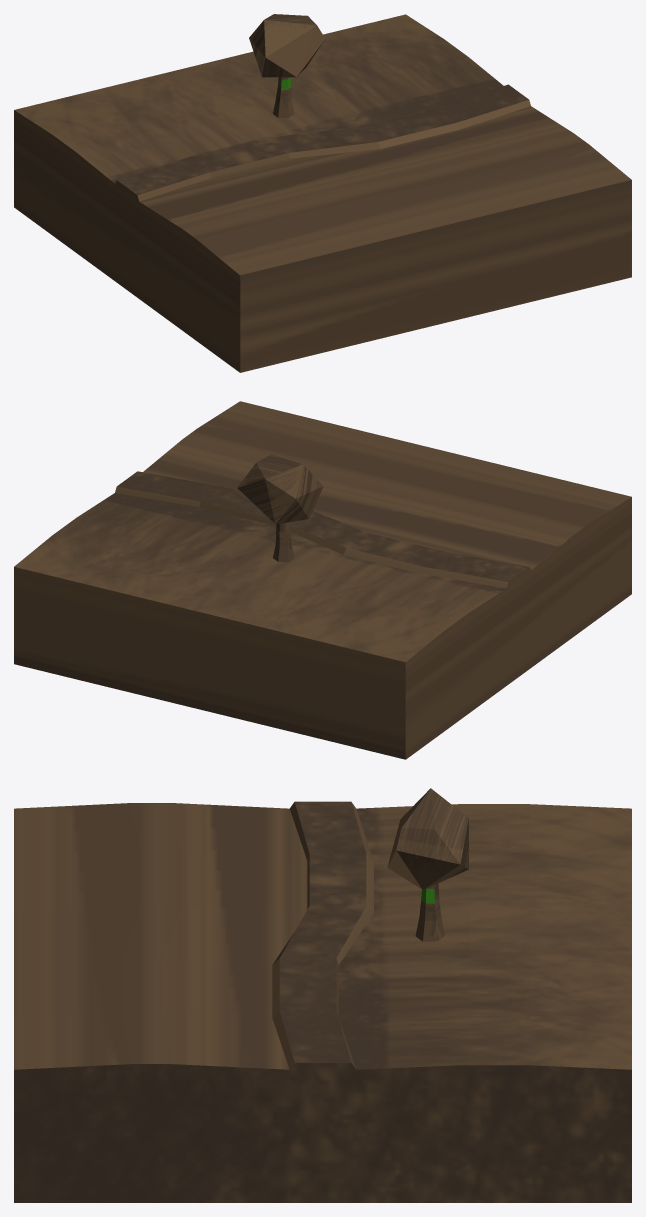
Rendered from FRFRN.obj.
The picture shows the model from 3 angles, top to bottom: view 1: azimuth 30°, elevation 25°; view 2: azimuth 150°, elevation 25°; view 3: azimuth 270°, elevation 25°; orthographic projection. The views are drawn at different scales.
Visible parts, largest first — view 1: Icosphere; view 2: Icosphere; view 3: Icosphere.
Part boxes in pixels (x1,y1,x2,y2): Icosphere: [14, 14, 631, 372]; Icosphere: [14, 401, 631, 759]; Icosphere: [14, 788, 631, 1202].
Size of the model in its own units: 1 by 0.4842 by 1.
